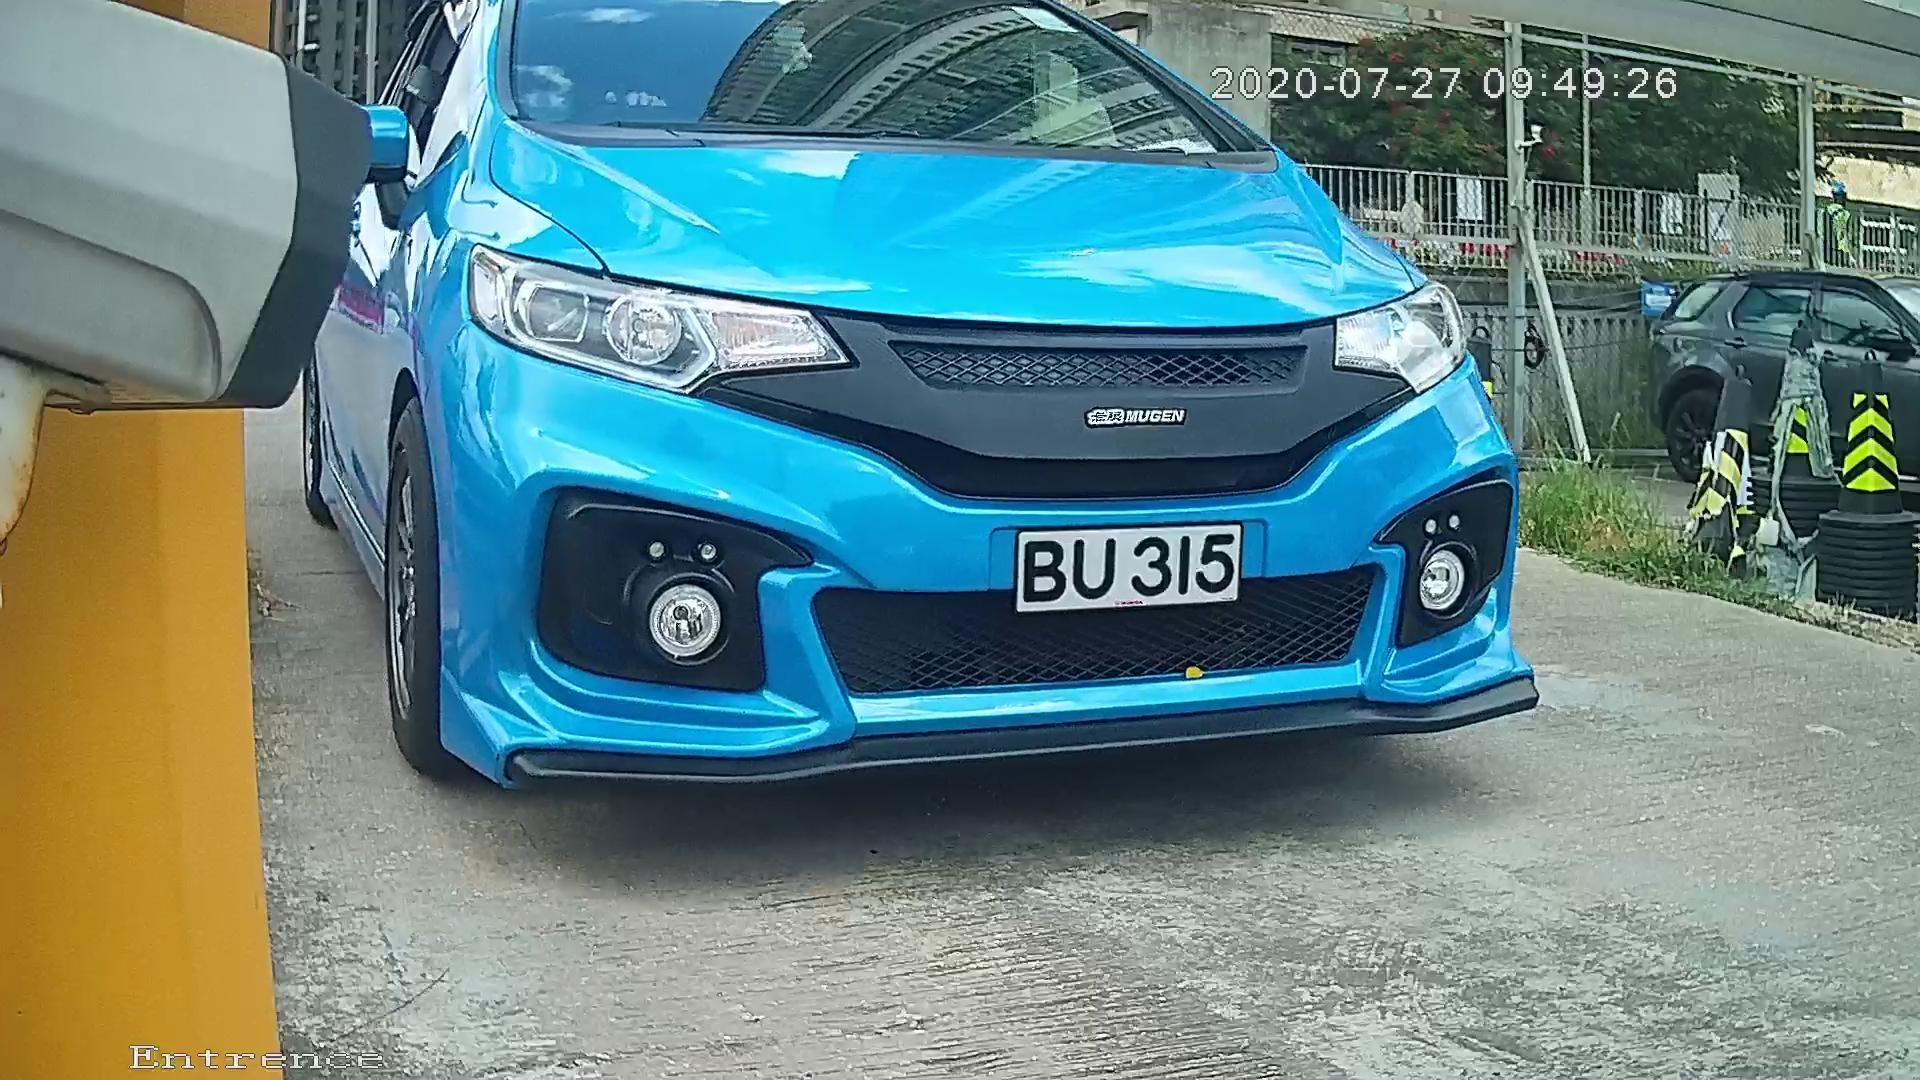License Plate: (986, 502, 1252, 627)
